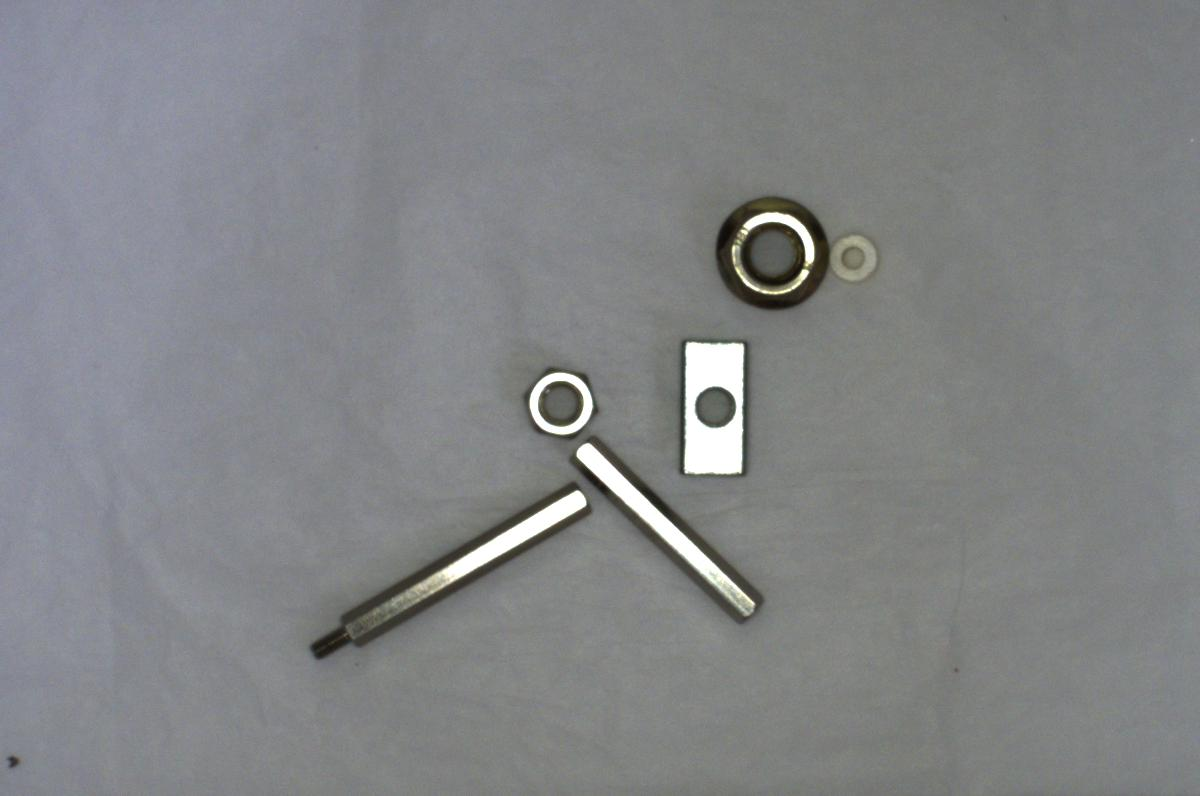Flange nut: (711, 183, 826, 319)
Hexagon nut: (514, 359, 604, 443)
Hexagonal steel column: (301, 475, 590, 668)
Plastic cushion pillar: (825, 225, 880, 289)
Rectangular nut: (677, 333, 750, 481)
Spring washer: (557, 439, 770, 628)
